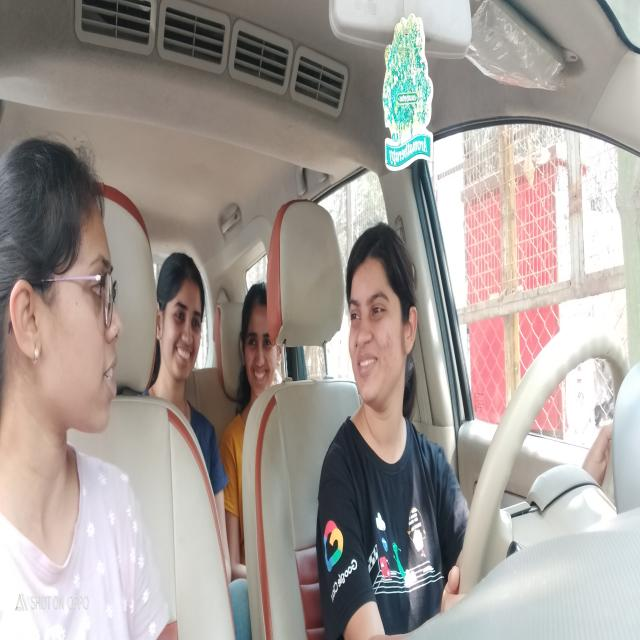LeftRight: (18, 164, 128, 432), (345, 249, 421, 402)
person: (161, 264, 207, 389), (243, 289, 281, 389)
talking: (98, 347, 124, 401), (354, 354, 379, 378)
